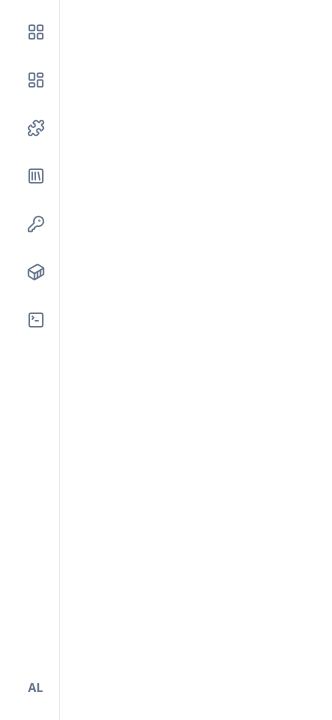
it: AppShell — menu admin › propose les sous-menus Gestion, Evenements et Machines
Click the button "al" at point(36, 688), box [16, 668, 56, 708]
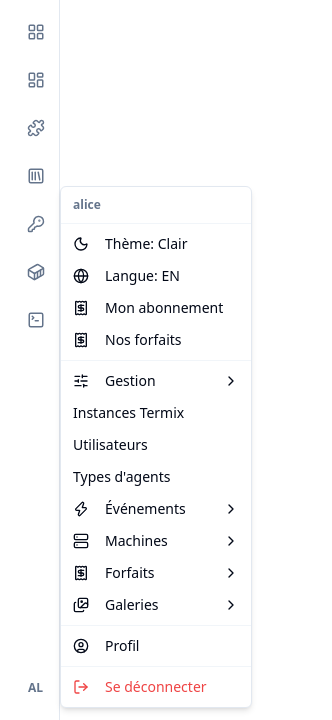
Expected: the menu item "Gestion" is shown, [73, 371, 239, 390]
Expected: the menu item "Événements" is shown, [73, 499, 239, 518]
Expected: the menu item "Machines" is shown, [73, 531, 239, 550]
